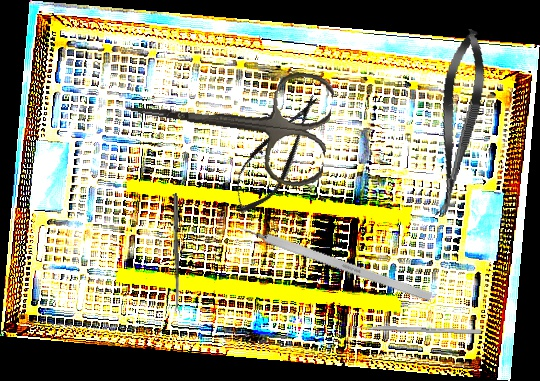Hook Surgical: (228, 219, 433, 303)
Iris Scissors: (118, 49, 336, 191)
Micro Scissor: (219, 84, 333, 224), (423, 26, 493, 221)
Pusher: (341, 324, 482, 335)
Surgical Spoon: (172, 193, 180, 314)
